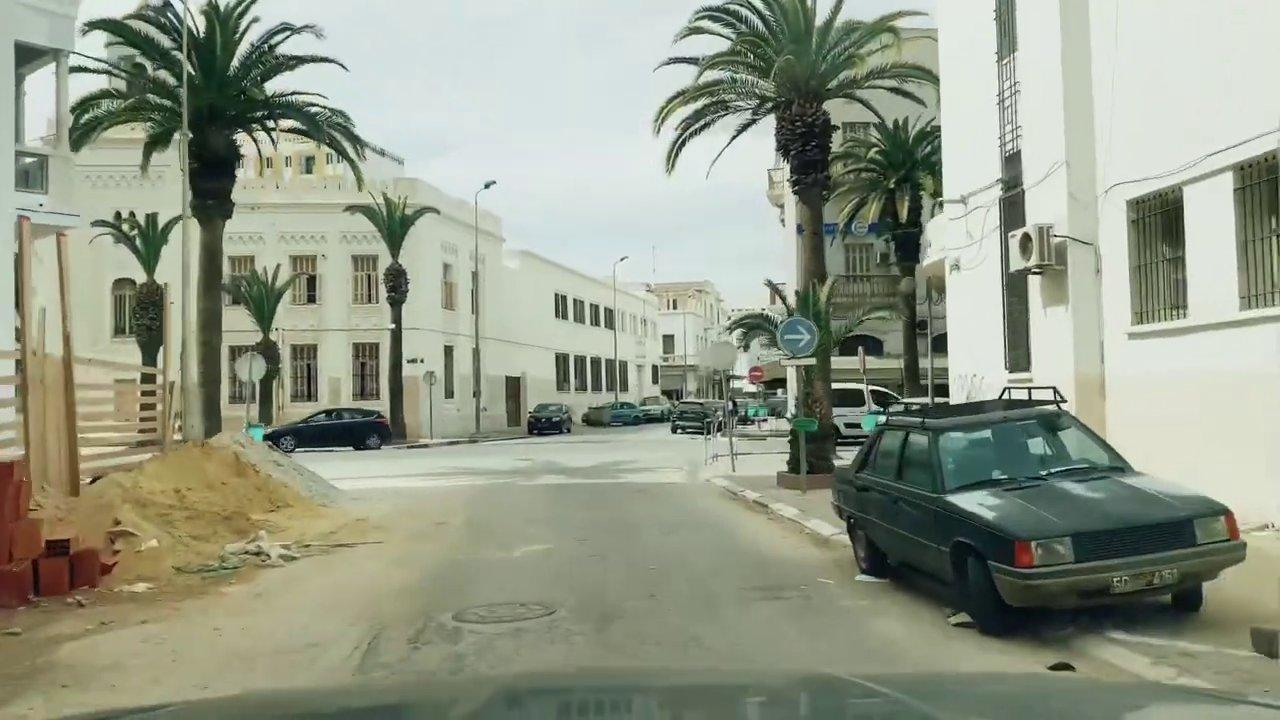no entry: (747, 365, 765, 383)
turn right: (776, 316, 819, 357)
